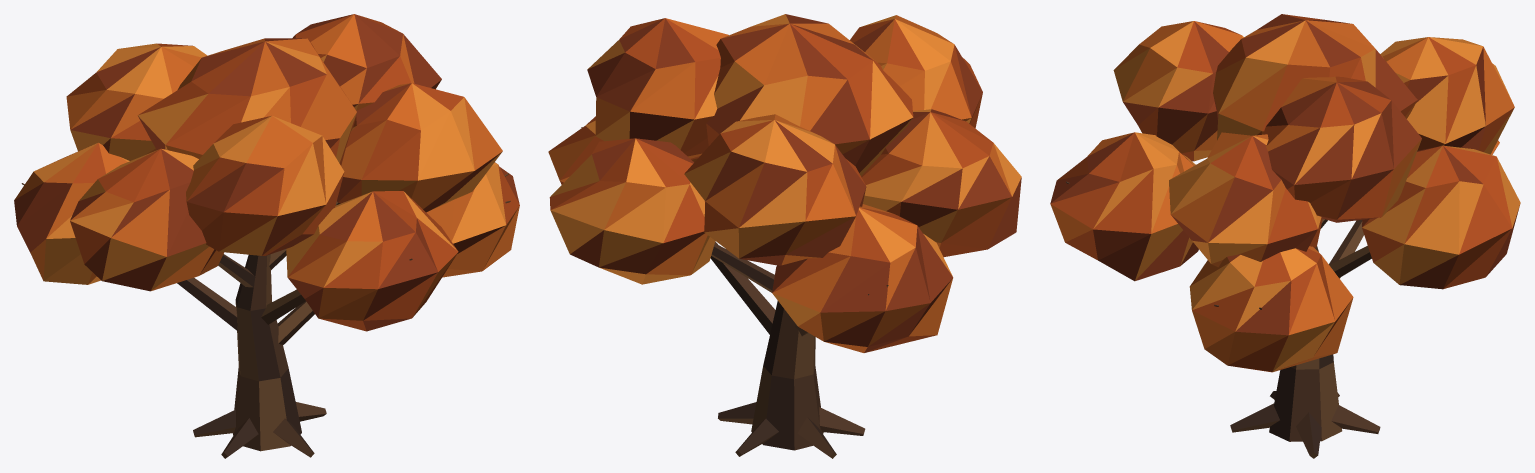
Rendered from tree_oak_autumn.obj.
3 views of the same model, side by side, from view 1: azimuth 30°, elevation 25°; view 2: azimuth 150°, elevation 25°; view 3: azimuth 270°, elevation 25° (orthographic). The views are drawn at different scales.
Visible parts, largest first — view 1: tree_oak_autumn; view 2: tree_oak_autumn; view 3: tree_oak_autumn.
Part boxes in pixels (x1,y1,x2,y2): tree_oak_autumn: (14,14,519,458); tree_oak_autumn: (548,14,1021,458); tree_oak_autumn: (1050,14,1520,458).
Bounding box in the file's own units: 682 × 580 × 604.
1 material, 1 textured.
